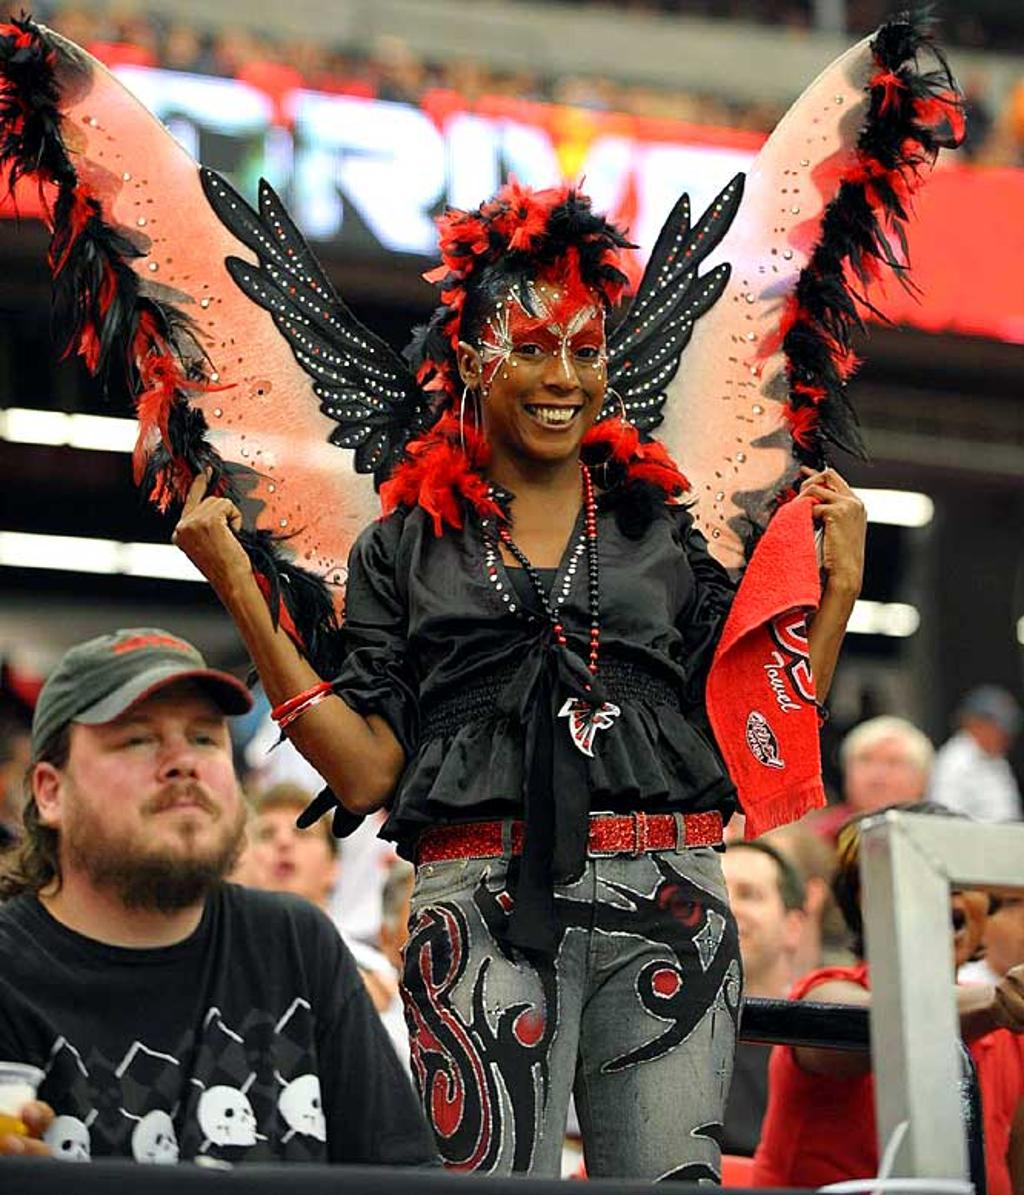face: (65, 697, 240, 877), (483, 303, 616, 455), (697, 847, 781, 973), (243, 809, 332, 909)
